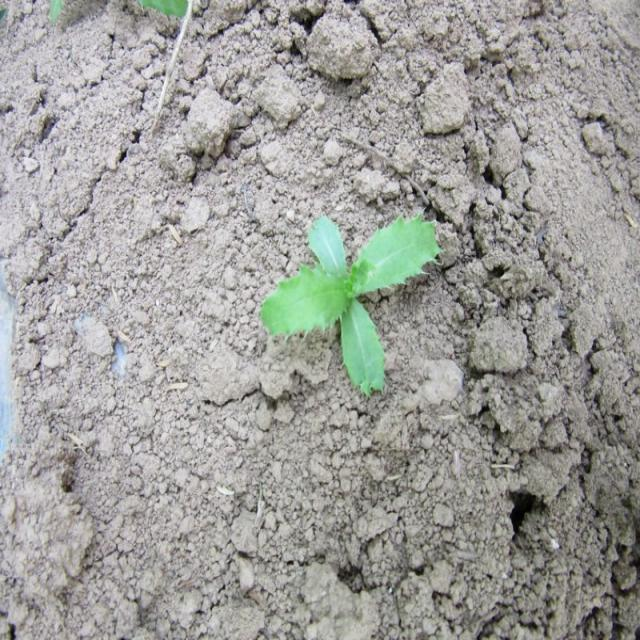cs: (256, 206, 444, 401)
